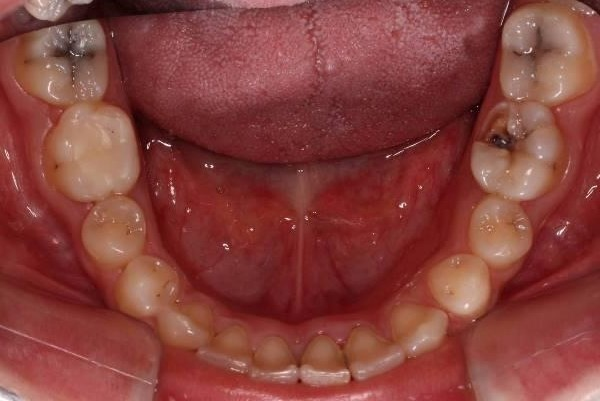LL1BC_healthy: (428, 252, 492, 315)
LL1M_decay: (468, 98, 563, 201)
LL2BC_healthy: (465, 197, 534, 267)
LL2M_decay: (501, 6, 599, 109)
LLCI_healthy: (299, 334, 350, 387)
LLC_healthy: (389, 303, 449, 356)
LLLI_healthy: (345, 330, 403, 381)
LR1BC_healthy: (115, 256, 180, 319)
LR1M_healthy: (40, 103, 142, 203)
LR2BC_healthy: (84, 196, 146, 269)
LR2M_decay: (23, 25, 113, 103)
LRCI_healthy: (249, 334, 300, 384)
LRC_healthy: (156, 299, 216, 349)
LRLI_healthy: (194, 324, 253, 372)
